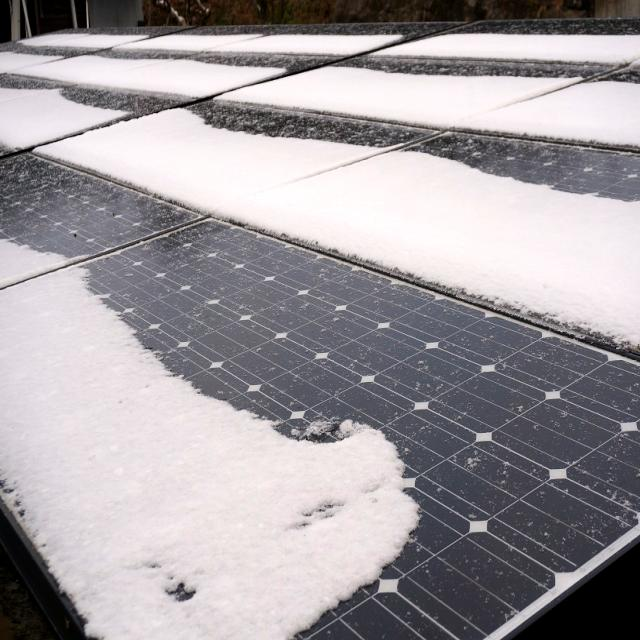panel: (36, 245, 228, 440), (324, 410, 420, 581), (350, 208, 480, 329), (488, 276, 622, 388), (210, 172, 336, 280), (78, 278, 180, 408), (0, 497, 97, 630), (198, 381, 321, 471), (419, 74, 499, 206), (68, 146, 197, 226), (226, 571, 356, 640), (172, 79, 288, 149), (305, 84, 400, 168), (132, 530, 204, 640), (58, 68, 167, 138), (514, 112, 578, 225), (586, 118, 640, 245), (0, 221, 65, 301), (350, 32, 428, 92), (0, 103, 61, 179), (490, 51, 566, 109), (580, 41, 638, 107), (46, 30, 108, 78), (0, 33, 46, 96), (432, 40, 477, 90), (144, 32, 222, 59), (219, 29, 271, 59), (297, 26, 352, 48)
